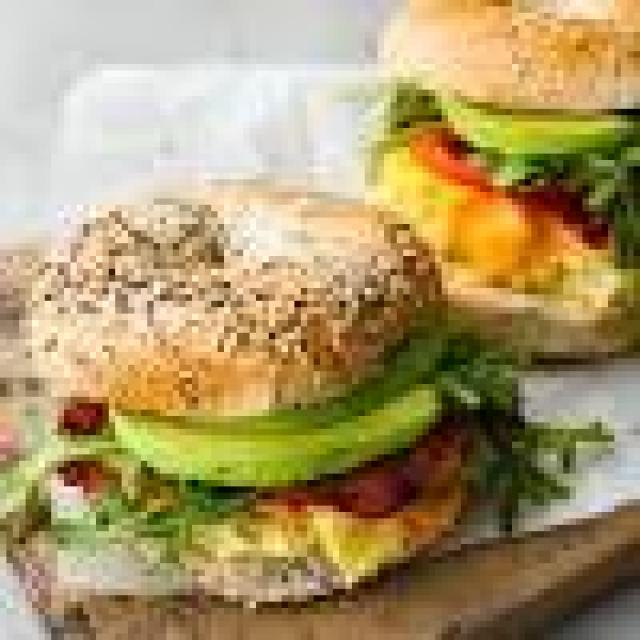Bagel: (36, 189, 438, 413), (402, 0, 640, 109)
